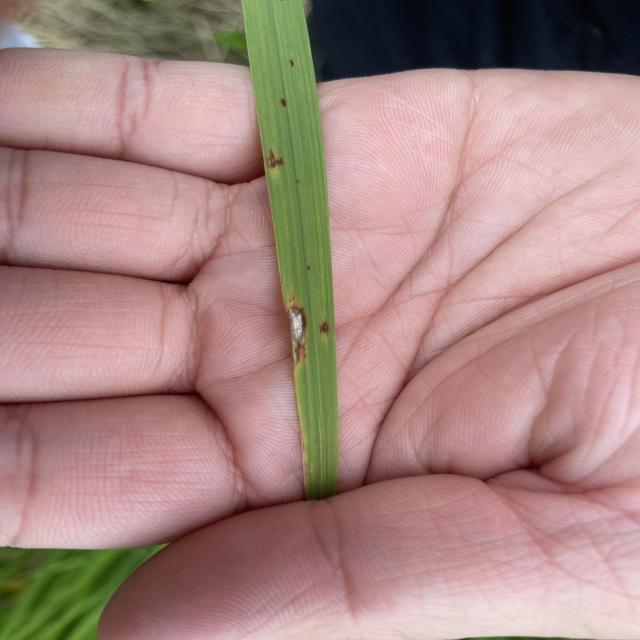Dao on: (286, 299, 306, 365), (267, 150, 284, 169), (320, 320, 329, 333)
